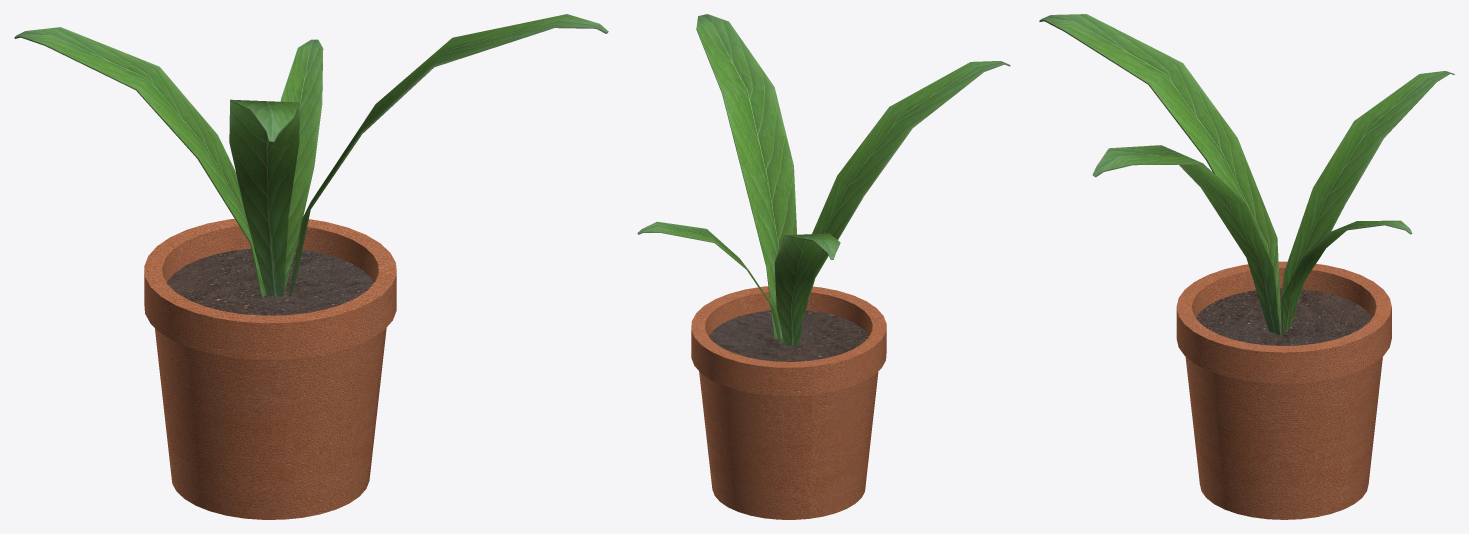
Rendered from FlowerPot.fbx.
The picture shows the model from 3 angles, left to right: view 1: azimuth 30°, elevation 25°; view 2: azimuth 150°, elevation 25°; view 3: azimuth 270°, elevation 25°; orthographic projection. The views are drawn at different scales.
Parts seen in each view (by area): view 1: FlowerPot; view 2: FlowerPot; view 3: FlowerPot.
Boxes of the visible parts, x1,y1,x2,y2 form: FlowerPot: (14,14,608,519); FlowerPot: (637,14,1010,519); FlowerPot: (1039,14,1454,519).
Bounding box in the file's own units: 447 × 541 × 493.
